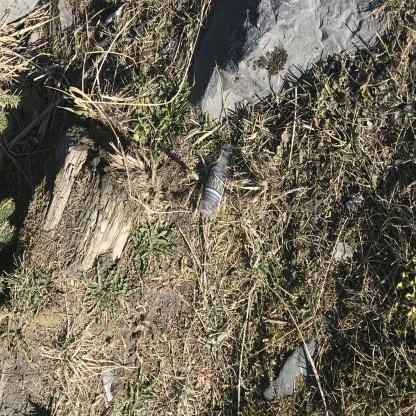trash: (144, 261, 211, 317)
